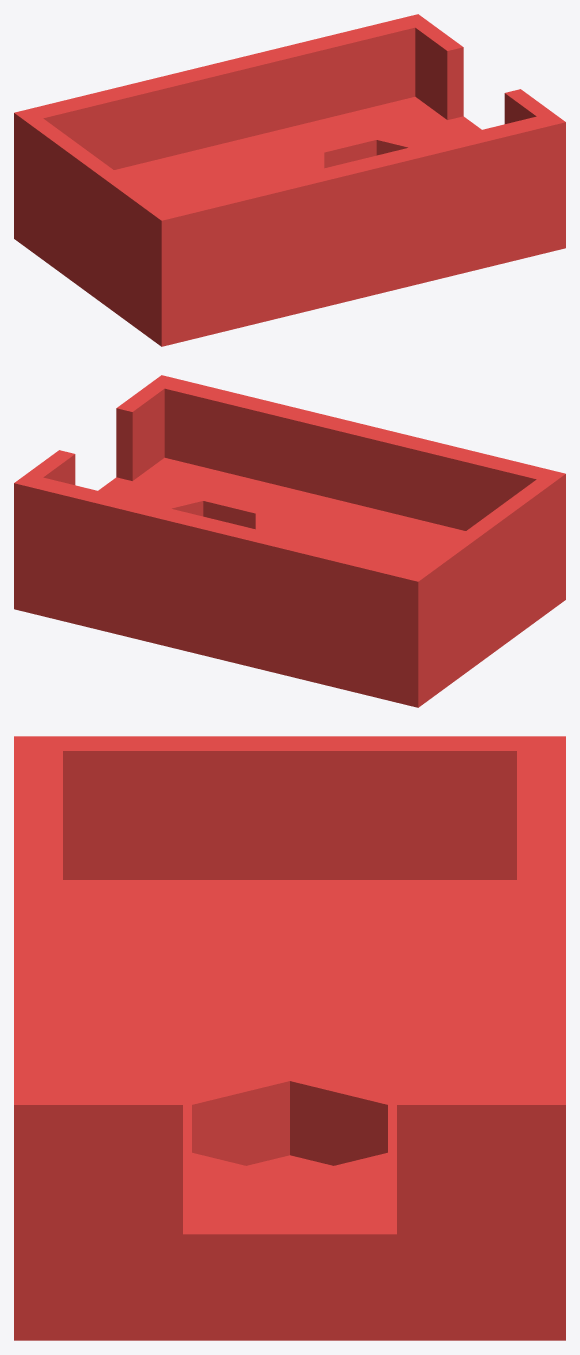
File: MechaFerris-ServoHolder.gltf
3 views of the same model, one above another, from view 1: azimuth 30°, elevation 25°; view 2: azimuth 150°, elevation 25°; view 3: azimuth 270°, elevation 25° (orthographic). The views are drawn at different scales.
Visible parts, largest first — view 1: Body001; view 2: Body001; view 3: Body001.
Part boxes in pixels (left/top/right/bottom): Body001: left=14, top=14, right=565, bottom=346; Body001: left=14, top=375, right=565, bottom=707; Body001: left=14, top=736, right=565, bottom=1340.
Size of the model in its own units: 0.0245 by 0.0073 by 0.0155.
